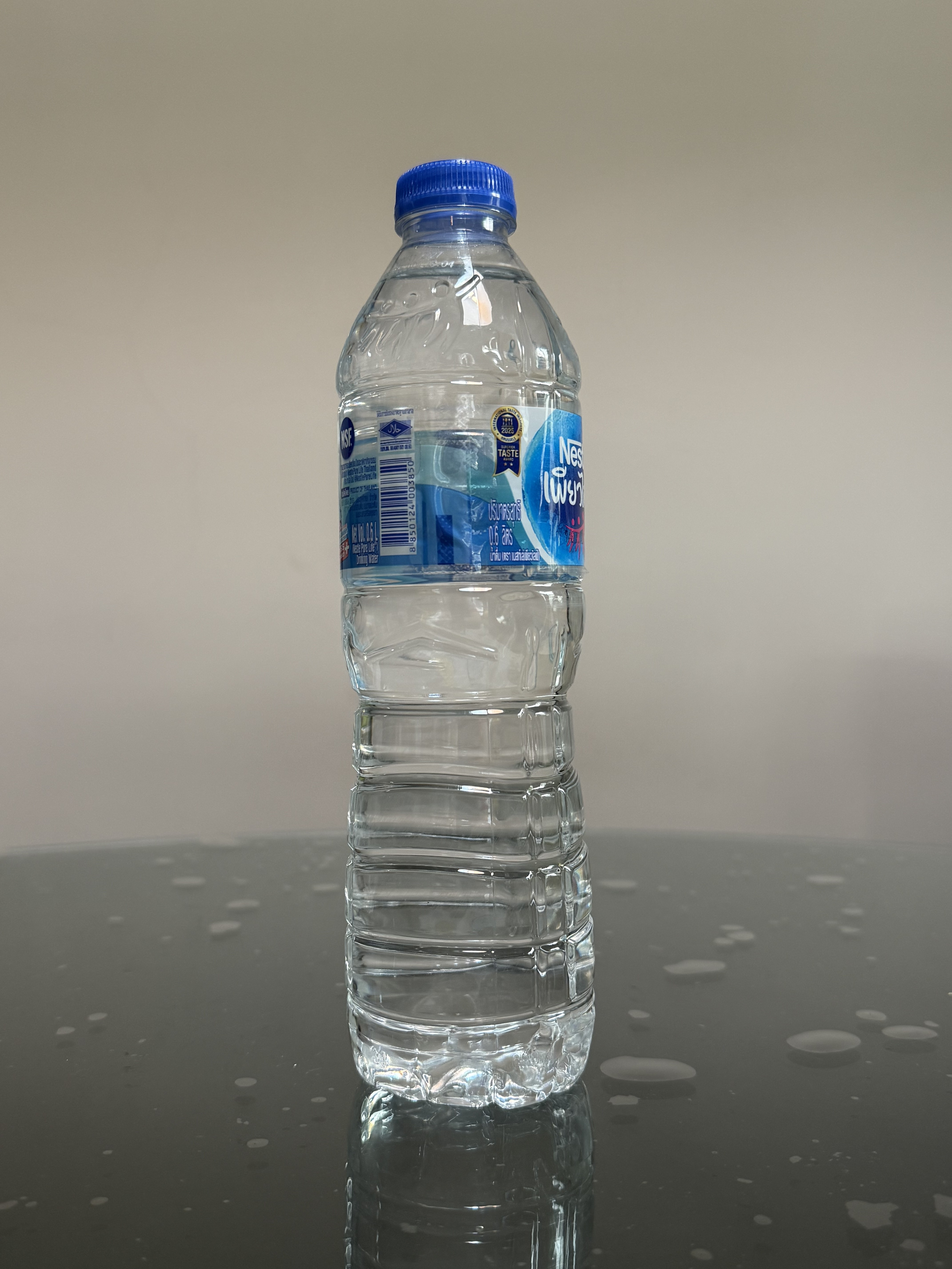closed_cap: (392, 155, 518, 234)
